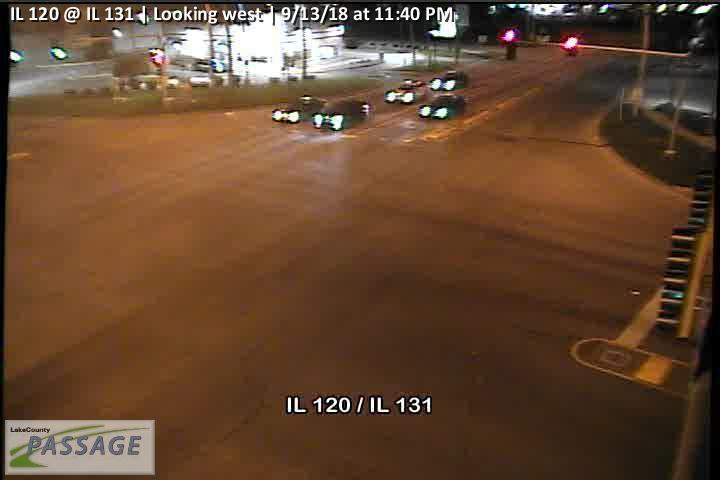SUV: (417, 92, 464, 119), (383, 79, 427, 104), (430, 69, 469, 92)
Sedan: (312, 100, 370, 131), (272, 97, 326, 124)
